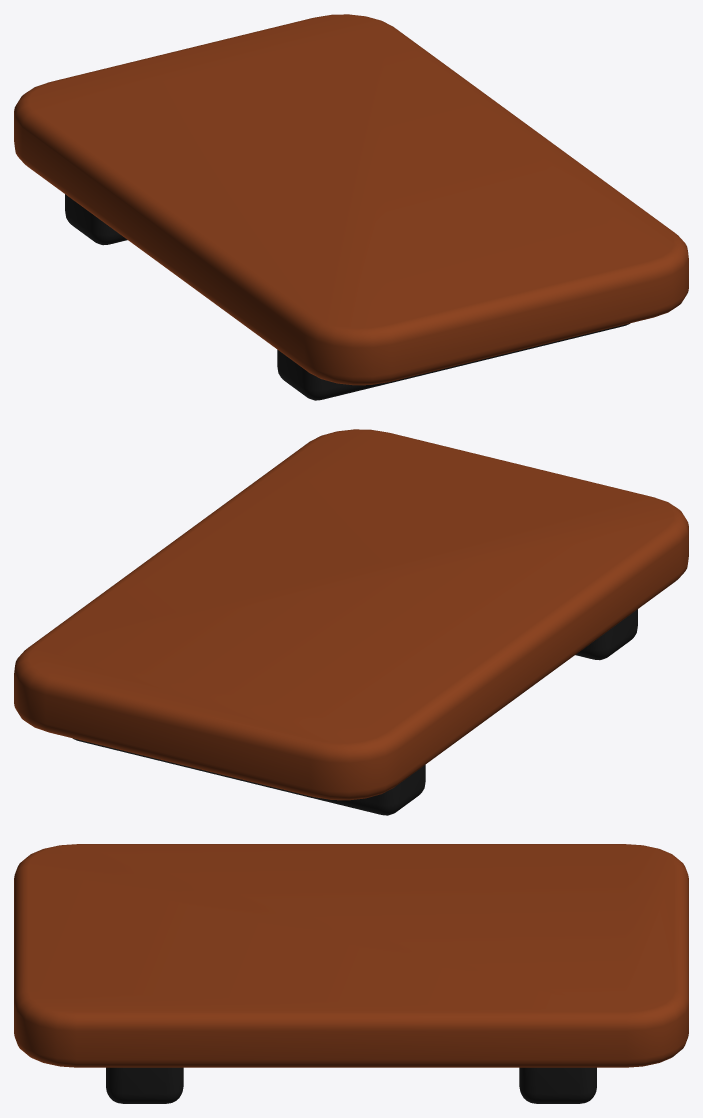
Rendered from sushiTabagi.fbx.
The picture shows the model from 3 angles, top to bottom: view 1: azimuth 30°, elevation 25°; view 2: azimuth 150°, elevation 25°; view 3: azimuth 270°, elevation 25°; orthographic projection. The views are drawn at different scales.
Visible parts, largest first — view 1: polySurface3; view 2: polySurface3; view 3: polySurface3.
Part boxes in pixels (x1=…): polySurface3: x1=14, y1=14, x2=688, y2=400; polySurface3: x1=14, y1=429, x2=688, y2=815; polySurface3: x1=14, y1=844, x2=688, y2=1103.
Bounding box in the file's own units: 64.34 × 17.03 × 103.
